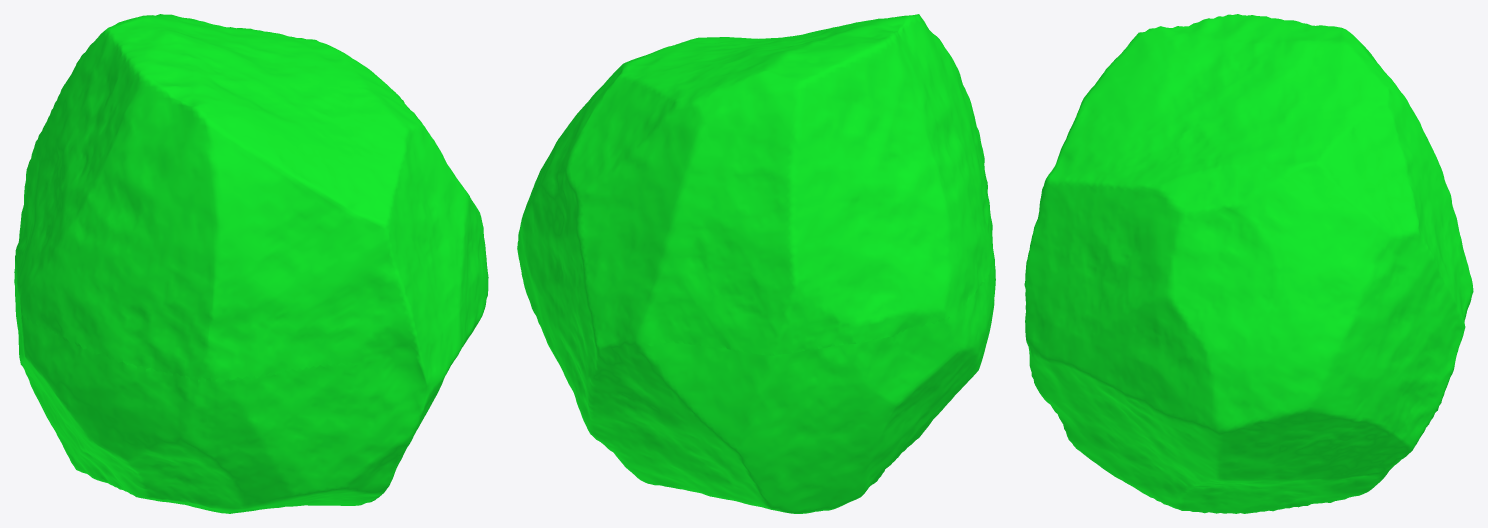
Rendered from gelecek_taş.fbx.
3 renders of one model, left to right at view 1: azimuth 30°, elevation 25°; view 2: azimuth 150°, elevation 25°; view 3: azimuth 270°, elevation 25°, orthographic. The views are drawn at different scales.
Visible parts, largest first — view 1: Object_3; view 2: Object_3; view 3: Object_3.
Part boxes in pixels (x1,y1,x2,y2): Object_3: (14, 14, 488, 513); Object_3: (517, 14, 995, 513); Object_3: (1024, 14, 1473, 513).
Bounding box in the file's own units: 1453 × 1468 × 1407.
